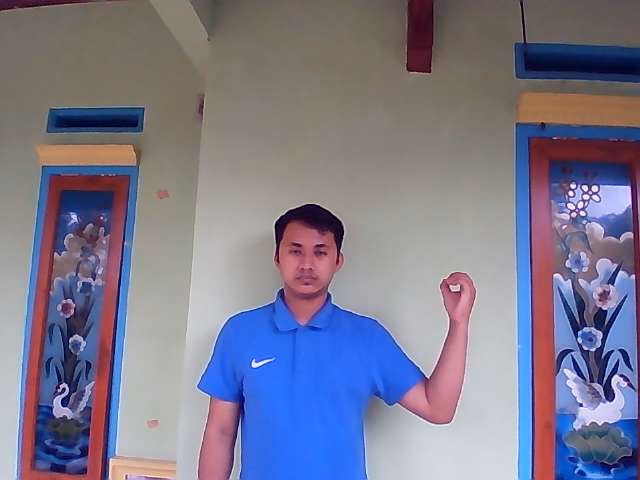O: (440, 270, 478, 322)
